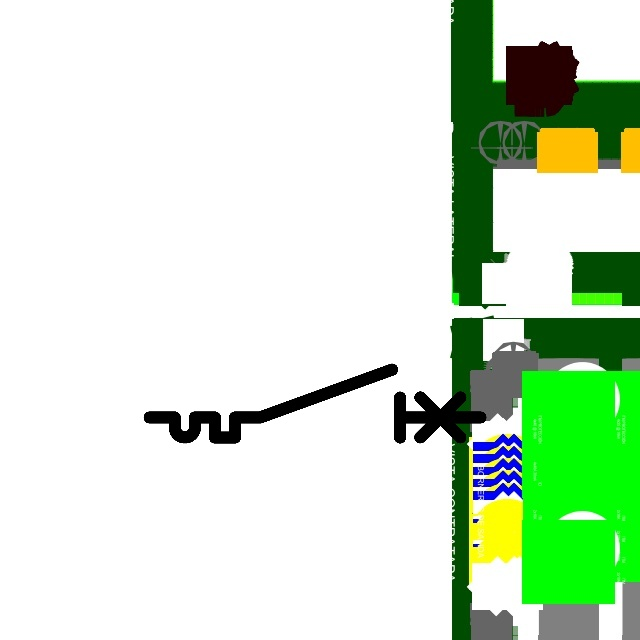interruptor_termomagnetico: (141, 361, 489, 446)
